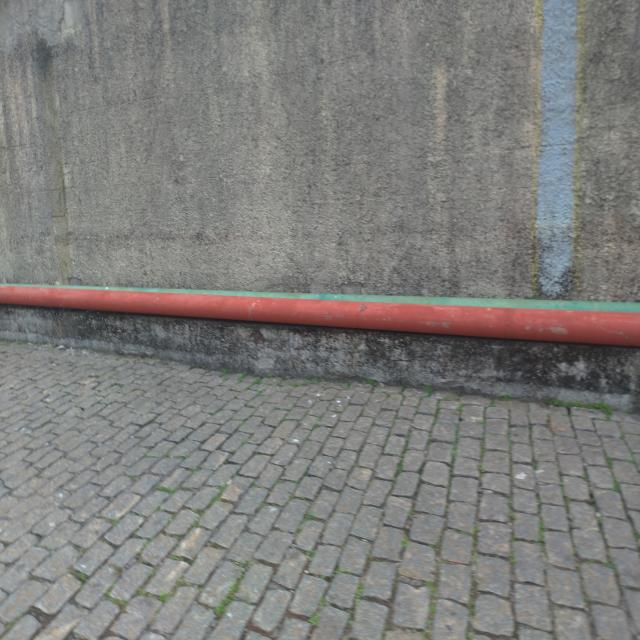gas: (1, 288, 638, 345)
